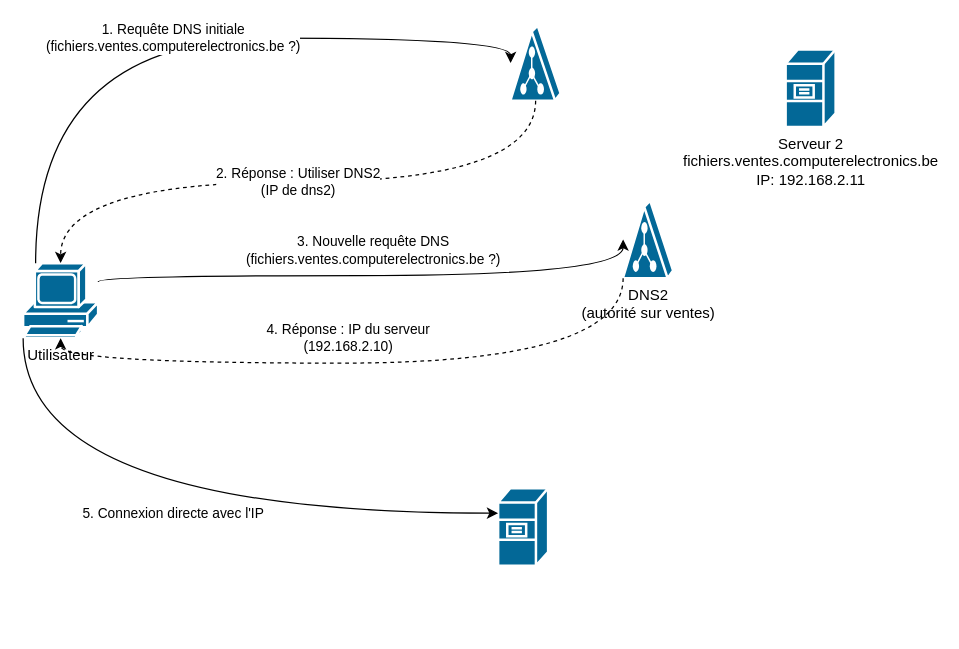
Image size: 959x649. Some labels were removed from this diagram. The box of each missing label's shape, as (x1, y1, x2, y2) in pixels:
DNS1 (sans autorité sur ventes): (509, 24, 561, 101)
Serveur 1 fichiers.ventes.computerelectronics.be IP: 192.168.2.10: (496, 486, 549, 566)
